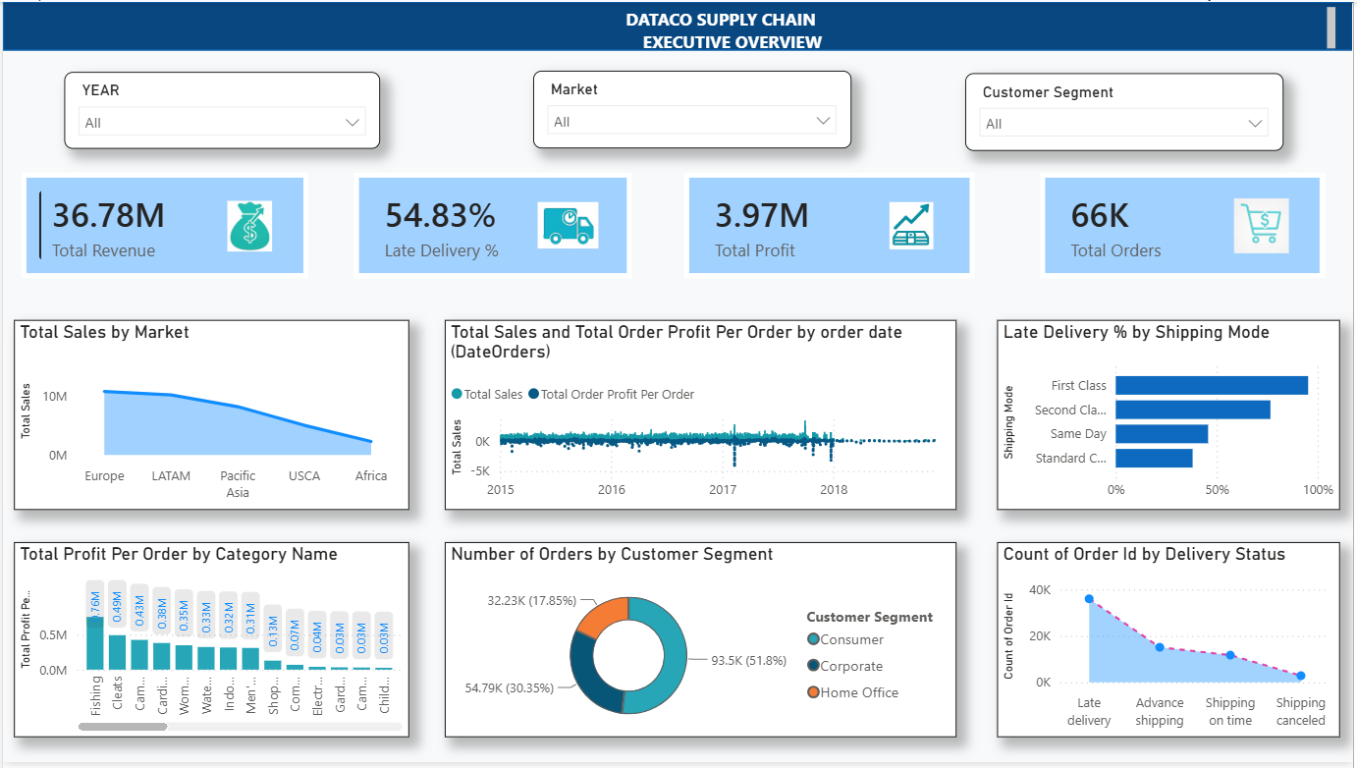

The page's visual inventory and layout, read from the dashboard file:
{"tool":"powerbi","page":{"name":"Executive Overview","canvas":[1280,720],"ordinal":0},"visuals":[{"type":"cardVisual","fields":{"Data":["Sheet1.Total Profit"]},"box":[645,162,275,100],"z":0},{"type":"cardVisual","fields":{"Data":["Sheet1.Total Orders"]},"box":[982,162,270,100],"z":1000},{"type":"cardVisual","fields":{"Data":["Sheet1.Late Delivery %"]},"box":[332,162,263,100],"z":2000},{"type":"areaChart","fields":{"Category":["Sheet1.Market"],"Y":["Sum(Sheet1.Sales)"]},"box":[10,301,374,180],"z":3000},{"type":"lineClusteredColumnComboChart","fields":{"Category":["Sheet1.order date (DateOrders)"],"Y":["Sum(Sheet1.Sales)"],"Y2":["Sum(Sheet1.Order Profit Per Order)"]},"box":[419,301,485,180],"z":4000},{"type":"columnChart","fields":{"Category":["Sheet1.Category Name"],"Y":["Sum(Sheet1.Order Profit Per Order)"]},"box":[10,512,374,185],"z":5000},{"type":"donutChart","fields":{"Category":["Sheet1.Customer Segment"],"Y":["CountNonNull(Sheet1.Order Id)"]},"box":[419,512,485,185],"z":6000},{"type":"lineChart","fields":{"Category":["Sheet1.Delivery Status"],"Y":["Count(Sheet1.Order Id)"]},"box":[942,512,325,185],"z":7000},{"type":"clusteredBarChart","fields":{"Category":["Sheet1.Shipping Mode"],"Y":["Sheet1.Late Delivery %"]},"box":[942,301,325,180],"z":8000},{"type":"textbox","box":[9.6,0,1269.4,46.1],"z":9000},{"type":"slicer","fields":{"Values":["Sheet1.Market"]},"box":[501.8,65.2,301.3,73.9],"z":10000},{"type":"slicer","fields":{"Values":["Sheet1.Customer Segment"]},"box":[911.5,67.2,301.3,73.9],"z":11000},{"type":"slicer","fields":{"Values":["Sheet1.YEAR"]},"box":[57.6,66.2,299.4,72.9],"z":12000},{"type":"cardVisual","fields":{"Data":["Sheet1.Total Revenue"]},"box":[18,162,272,100],"z":13000},{"type":"shape","box":[0,0,1279,46.1],"z":14000},{"type":"textbox","box":[99.8,0,1167.7,58.5],"z":15000},{"type":"image","box":[495.1,190,79.6,44.1],"z":16000},{"type":"image","box":[1104.4,186.1,175.6,51.8],"z":17000},{"type":"image","box":[830,189,60.4,45.1],"z":18000},{"type":"image","box":[207.3,188.1,53.7,48],"z":19000}]}

Visuals, with their boxes in screenshot pixels (x1, y1, x2, y2), scaled from the page's 1280x720 canvas onto the 1357x768 screenshot:
cardVisual - Sheet1.Total Profit: rect(684, 173, 975, 279)
cardVisual - Sheet1.Total Orders: rect(1041, 173, 1327, 279)
cardVisual - Sheet1.Late Delivery %: rect(352, 173, 631, 279)
areaChart - Sheet1.Market x Sum(Sheet1.Sales): rect(11, 321, 407, 513)
lineClusteredColumnComboChart - Sheet1.order date (DateOrders) x Sum(Sheet1.Sales): rect(444, 321, 958, 513)
columnChart - Sheet1.Category Name x Sum(Sheet1.Order Profit Per Order): rect(11, 546, 407, 743)
donutChart - Sheet1.Customer Segment x CountNonNull(Sheet1.Order Id): rect(444, 546, 958, 743)
lineChart - Sheet1.Delivery Status x Count(Sheet1.Order Id): rect(999, 546, 1343, 743)
clusteredBarChart - Sheet1.Shipping Mode x Sheet1.Late Delivery %: rect(999, 321, 1343, 513)
textbox: rect(10, 0, 1356, 49)
slicer - Sheet1.Market: rect(532, 70, 851, 148)
slicer - Sheet1.Customer Segment: rect(966, 72, 1286, 151)
slicer - Sheet1.YEAR: rect(61, 71, 378, 148)
cardVisual - Sheet1.Total Revenue: rect(19, 173, 307, 279)
shape: rect(0, 0, 1356, 49)
textbox: rect(106, 0, 1344, 62)
image: rect(525, 203, 609, 250)
image: rect(1171, 199, 1356, 254)
image: rect(880, 202, 944, 250)
image: rect(220, 201, 277, 252)
